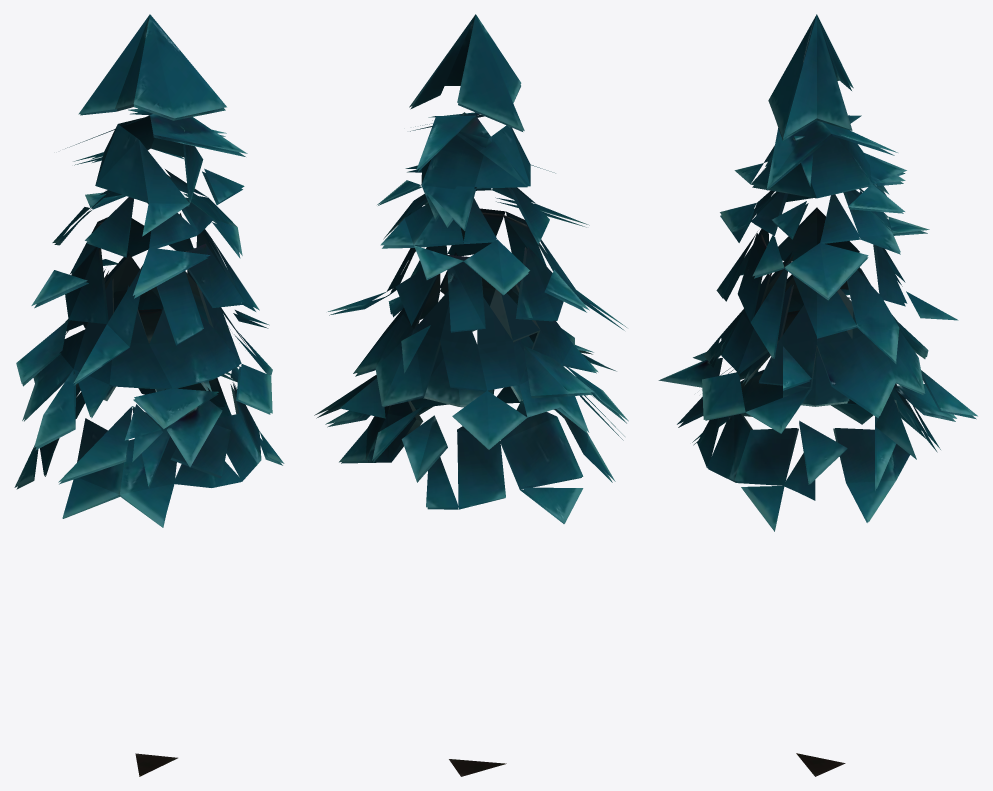
File: tree_pine_tall_LOD2.glb
The picture shows the model from 3 angles, left to right: view 1: azimuth 30°, elevation 25°; view 2: azimuth 150°, elevation 25°; view 3: azimuth 270°, elevation 25°; orthographic projection.
Visible parts, largest first — view 1: tree_pine_tall_LOD2; view 2: tree_pine_tall_LOD2; view 3: tree_pine_tall_LOD2.
Boxes of the visible parts, bbox=[...] form: tree_pine_tall_LOD2: bbox=[14, 14, 284, 776]; tree_pine_tall_LOD2: bbox=[314, 14, 628, 776]; tree_pine_tall_LOD2: bbox=[658, 14, 977, 776].
Size of the model in its own units: 0.3559 by 0.9993 by 0.3872.
Materials: 1 (1 with a texture image).
